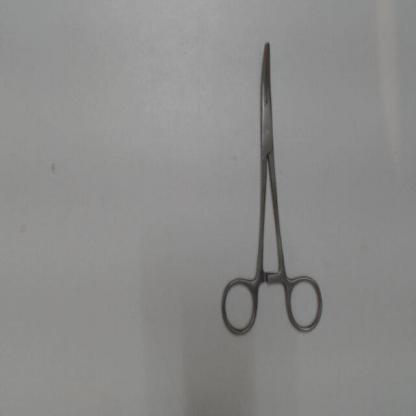Crile Artery Forceps: (216, 32, 331, 339)
